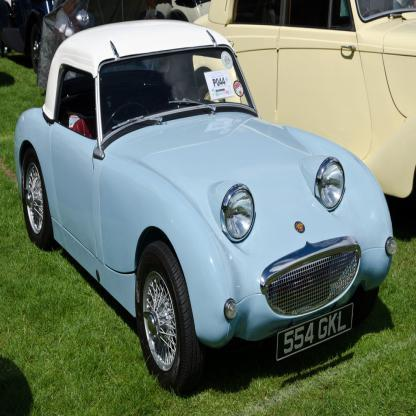car: (16, 21, 397, 396), (188, 0, 416, 224), (154, 1, 210, 26)
